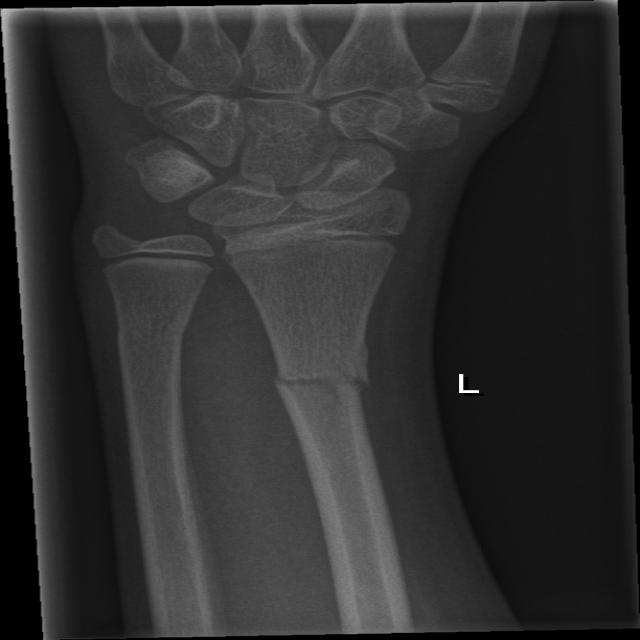radius fracture: (231, 286, 410, 490)
ulna fracture: (78, 268, 214, 426)
